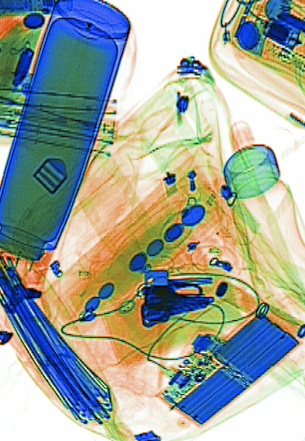powerbank: (150, 296, 302, 426)
